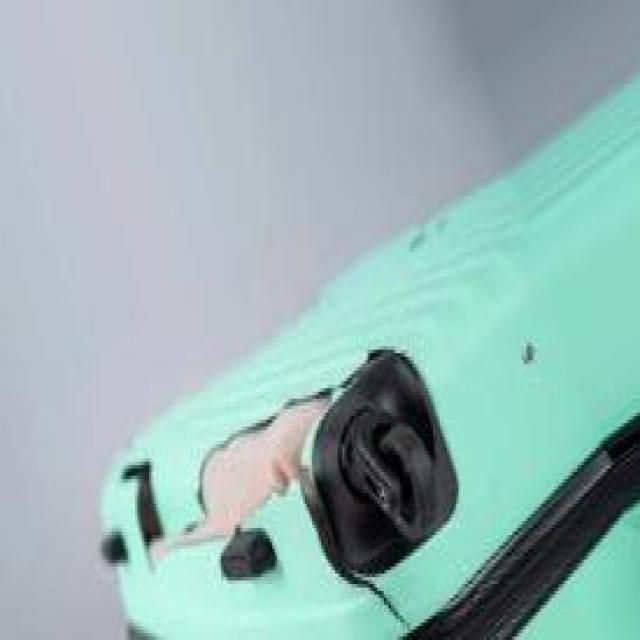Damage-bag: (150, 349, 458, 628)
